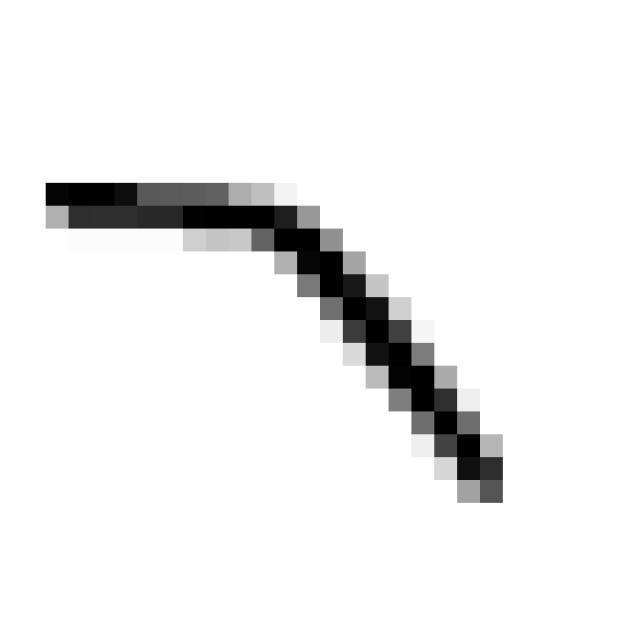6 -six-: (30, 155, 516, 523)
